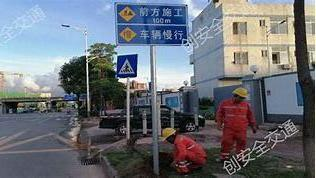sign: (115, 1, 188, 45)
